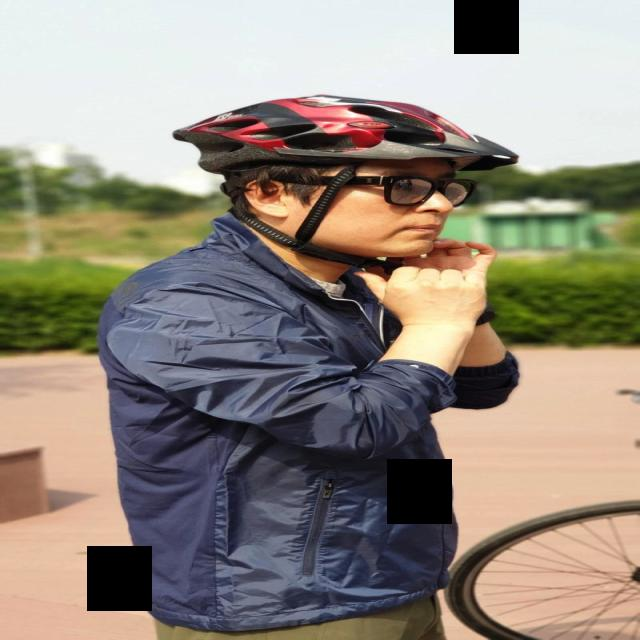Helmet: (185, 94, 527, 263)
